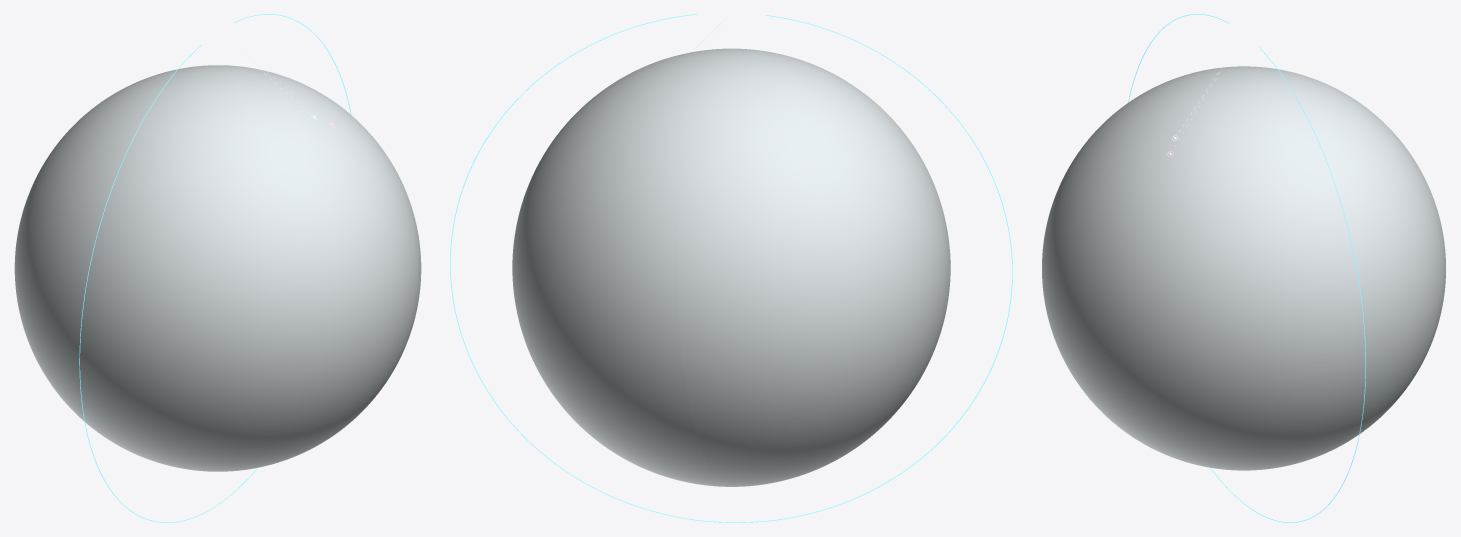
The model's file is SLX_OrbitLab_OrbitalEnvironment.glb.
The picture shows the model from 3 angles, left to right: view 1: azimuth 30°, elevation 25°; view 2: azimuth 150°, elevation 25°; view 3: azimuth 270°, elevation 25°; orthographic projection. The views are drawn at different scales.
Parts seen in each view (by area): view 1: ENV_Earth_CloudLayer, ENV_Orbit_PolarTrajectory; view 2: ENV_Earth_CloudLayer, ENV_Orbit_PolarTrajectory; view 3: ENV_Earth_CloudLayer, ENV_Orbit_PolarTrajectory.
Boxes of the visible parts, <box> form: ENV_Earth_CloudLayer: <box>14,65,421,471</box>; ENV_Orbit_PolarTrajectory: <box>79,14,351,522</box>; ENV_Earth_CloudLayer: <box>512,48,950,486</box>; ENV_Orbit_PolarTrajectory: <box>450,14,1012,522</box>; ENV_Earth_CloudLayer: <box>1042,66,1445,470</box>; ENV_Orbit_PolarTrajectory: <box>1128,14,1365,522</box>.
Size of the model in its own units: 18.21 by 20.55 by 16.1.
Materials: 6 (2 with a texture image).
